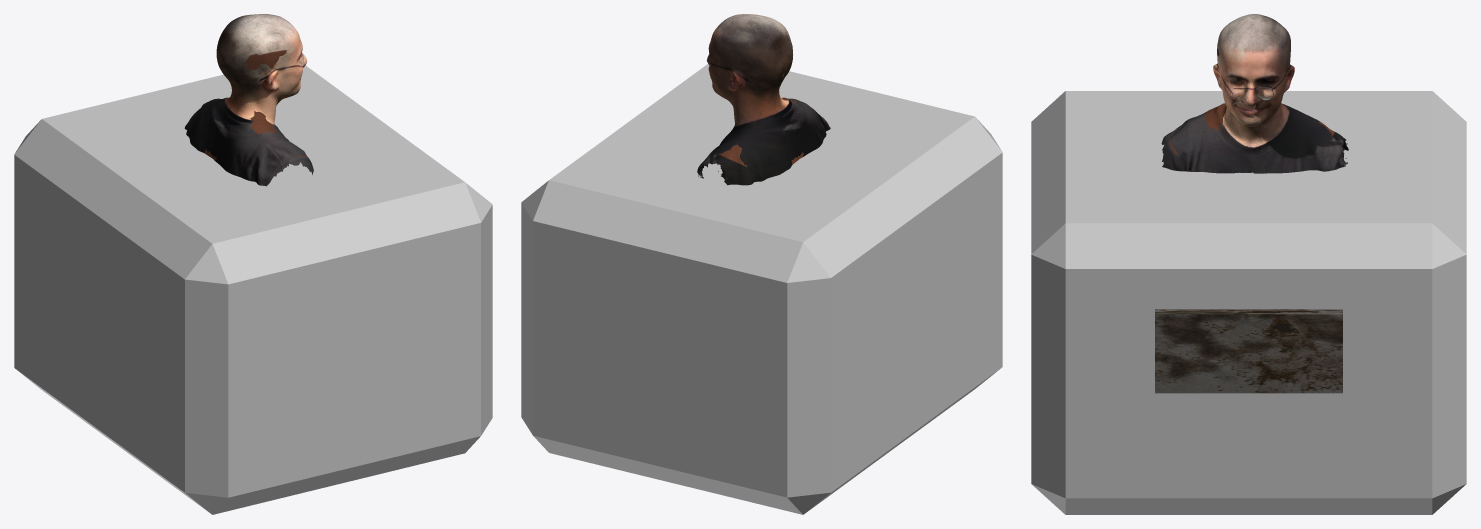
The model's file is mio.obj.
3 views of the same model, side by side, from view 1: azimuth 30°, elevation 25°; view 2: azimuth 150°, elevation 25°; view 3: azimuth 270°, elevation 25° (orthographic). The views are drawn at different scales.
Parts seen in each view (by area): view 1: Cubo, textured_output; view 2: Cubo, textured_output; view 3: Cubo, textured_output, Cubo.001.
Boxes of the visible parts, bbox=[...] form: Cubo: bbox=[14, 65, 492, 514]; textured_output: bbox=[184, 14, 313, 186]; Cubo: bbox=[521, 64, 1002, 514]; textured_output: bbox=[697, 14, 830, 185]; Cubo: bbox=[1031, 91, 1466, 514]; textured_output: bbox=[1161, 14, 1348, 173]; Cubo.001: bbox=[1155, 309, 1342, 393].
Size of the model in its own units: 8.94 by 10.83 by 9.89.
3 materials, 2 textured.
